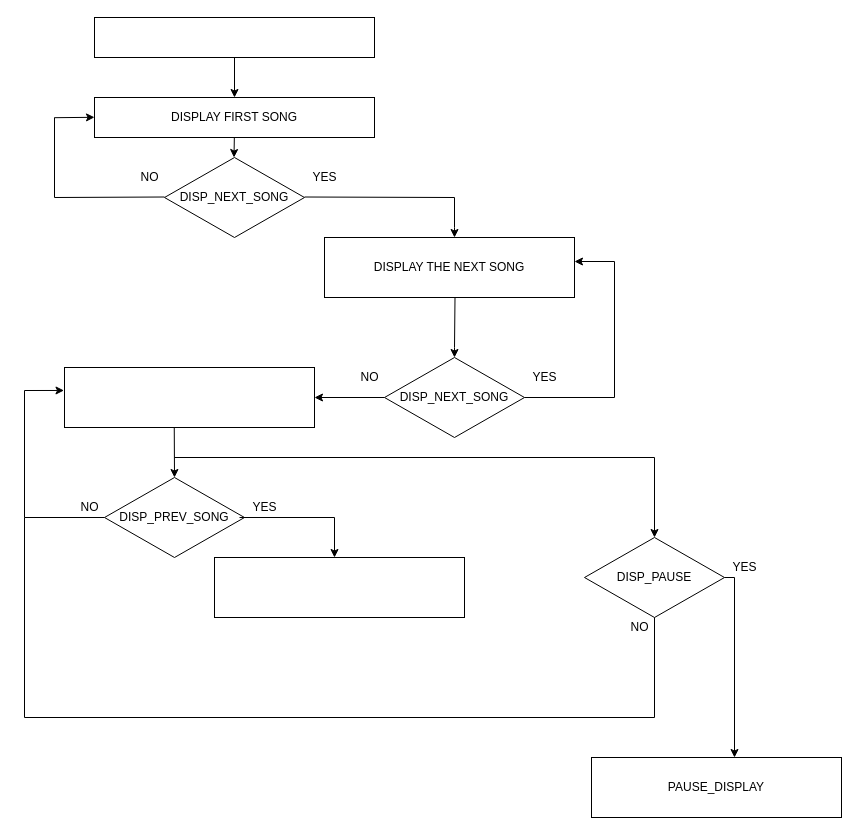
The diagram is 859 pixels wide and 835 high, and some of its shapes have lost their labels. The box of each missing label's shape, as (x1, y1, x2, y2) in pixels:
DISPLAY CURRENT SONG: (64, 366, 314, 428)
DISPLAY THE PREVIOUS SONG: (214, 556, 464, 618)
JUKEBOX_MENU: (94, 16, 374, 58)
